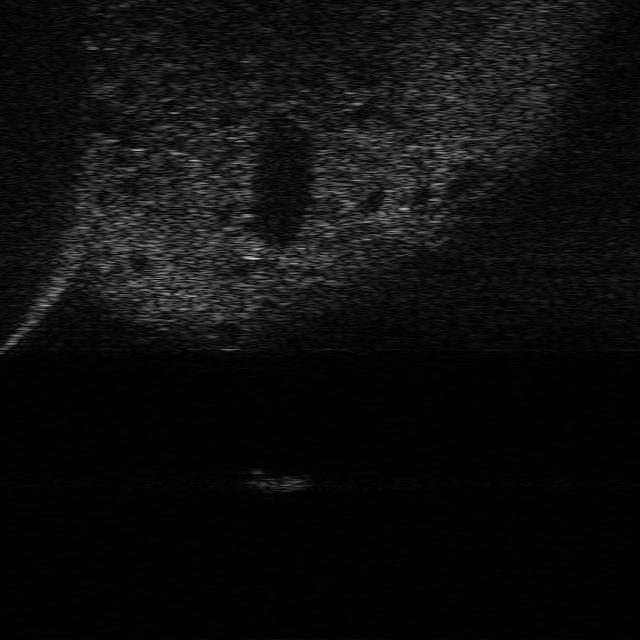cube: (246, 469, 316, 496)
